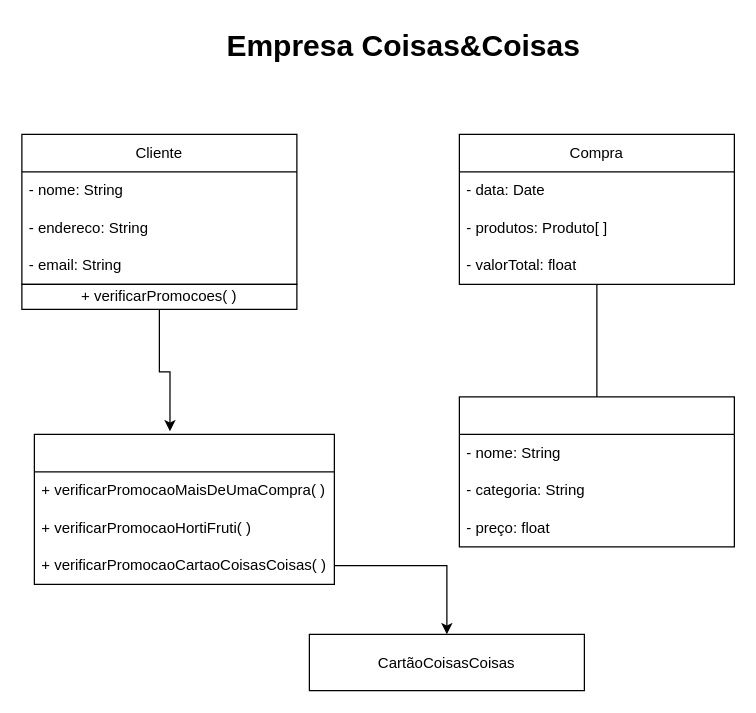
Image size: 756x713. Some labels were removed from this diagram. The shapes that lost their labels are listed below. From the top down, each one's box as (x1, y1, x2, y2) in pixels, then its label:
(458, 396, 734, 547): Produto
(33, 433, 334, 584): Promoção
